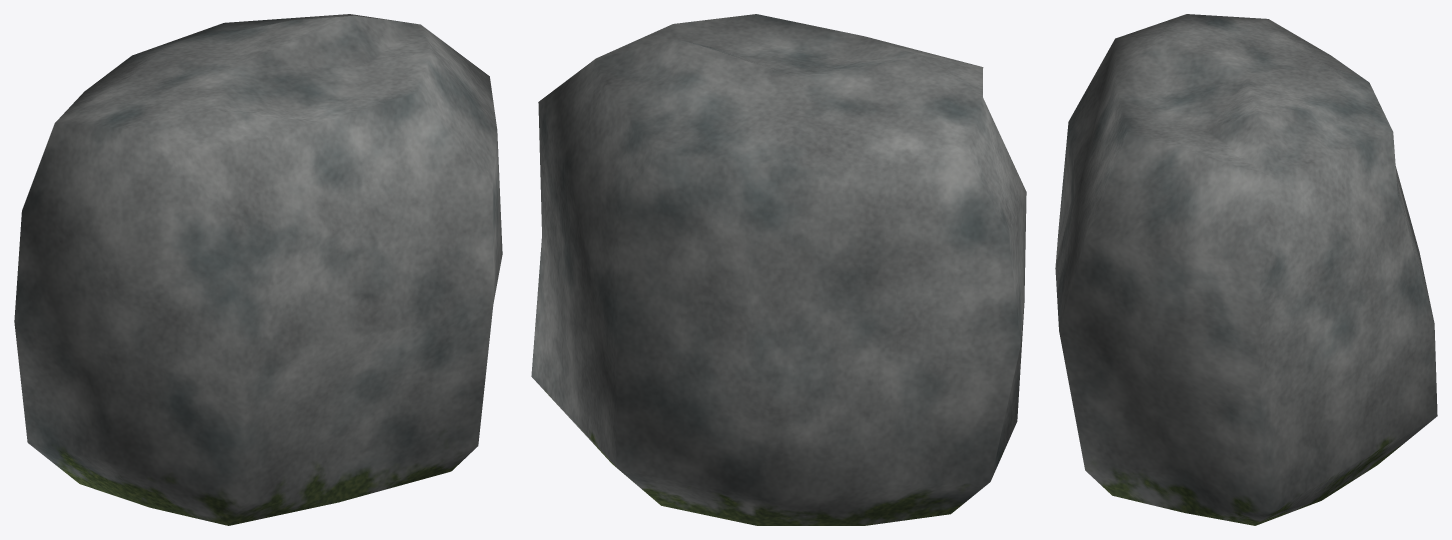
Rendered from rock_a.glb.
3 views of the same model, side by side, from view 1: azimuth 30°, elevation 25°; view 2: azimuth 150°, elevation 25°; view 3: azimuth 270°, elevation 25° (orthographic). The views are drawn at different scales.
Visible parts, largest first — view 1: Rock A; view 2: Rock A; view 3: Rock A.
Part boxes in pixels (<box>): Rock A: <box>14,14,502,525</box>; Rock A: <box>531,14,1026,525</box>; Rock A: <box>1055,14,1437,525</box>.
Bounding box in the file's own units: 2.6 × 2.1 × 1.95.
1 material, 1 textured.
